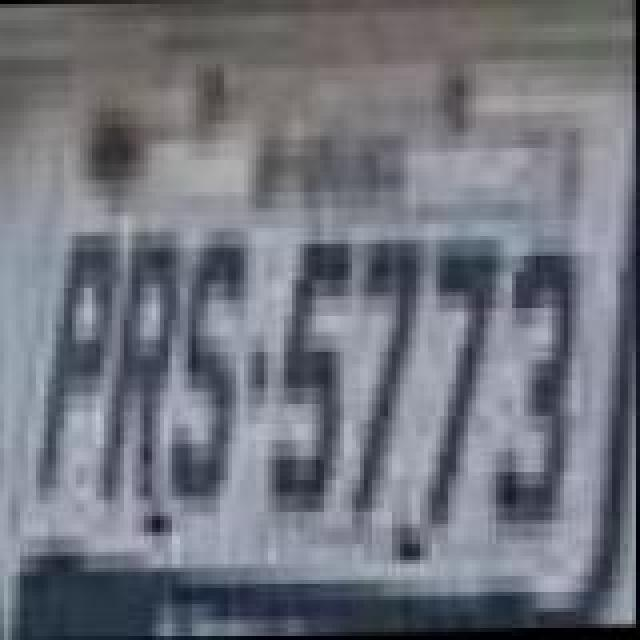3: (490, 238, 590, 542)
5: (262, 238, 362, 522)
7: (348, 236, 436, 520), (420, 242, 508, 526)
P: (30, 226, 118, 494)
R: (98, 232, 186, 500)
S: (160, 234, 252, 518)
